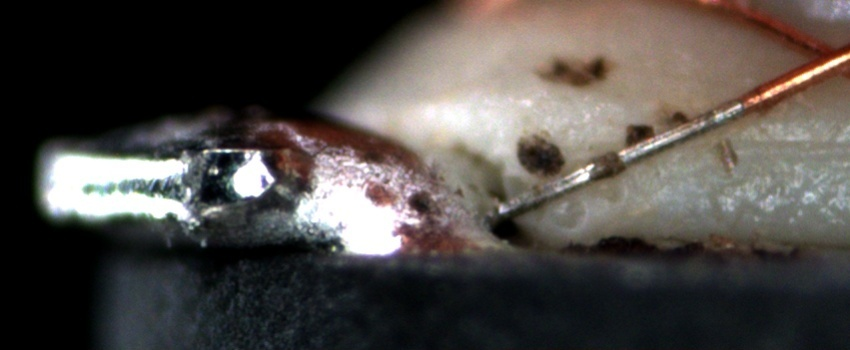CL: (786, 24, 845, 87)
DL: (741, 114, 849, 172)
TS: (492, 99, 746, 220)
